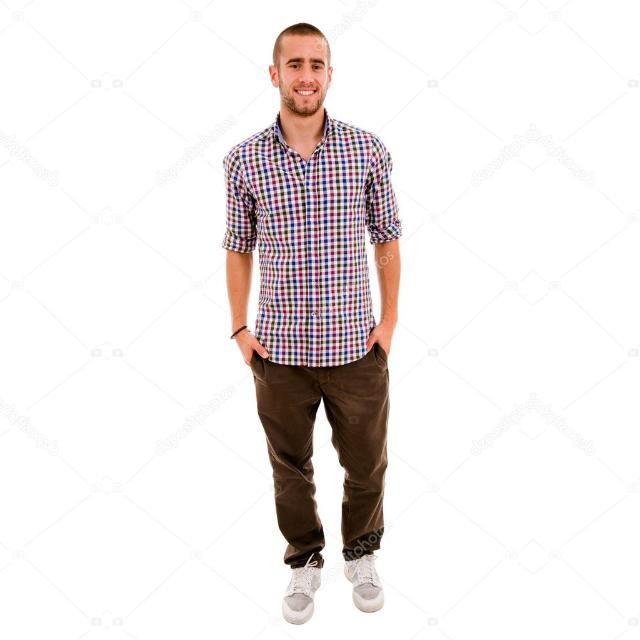person: (210, 26, 440, 616), (626, 25, 640, 616), (0, 25, 2, 616)
